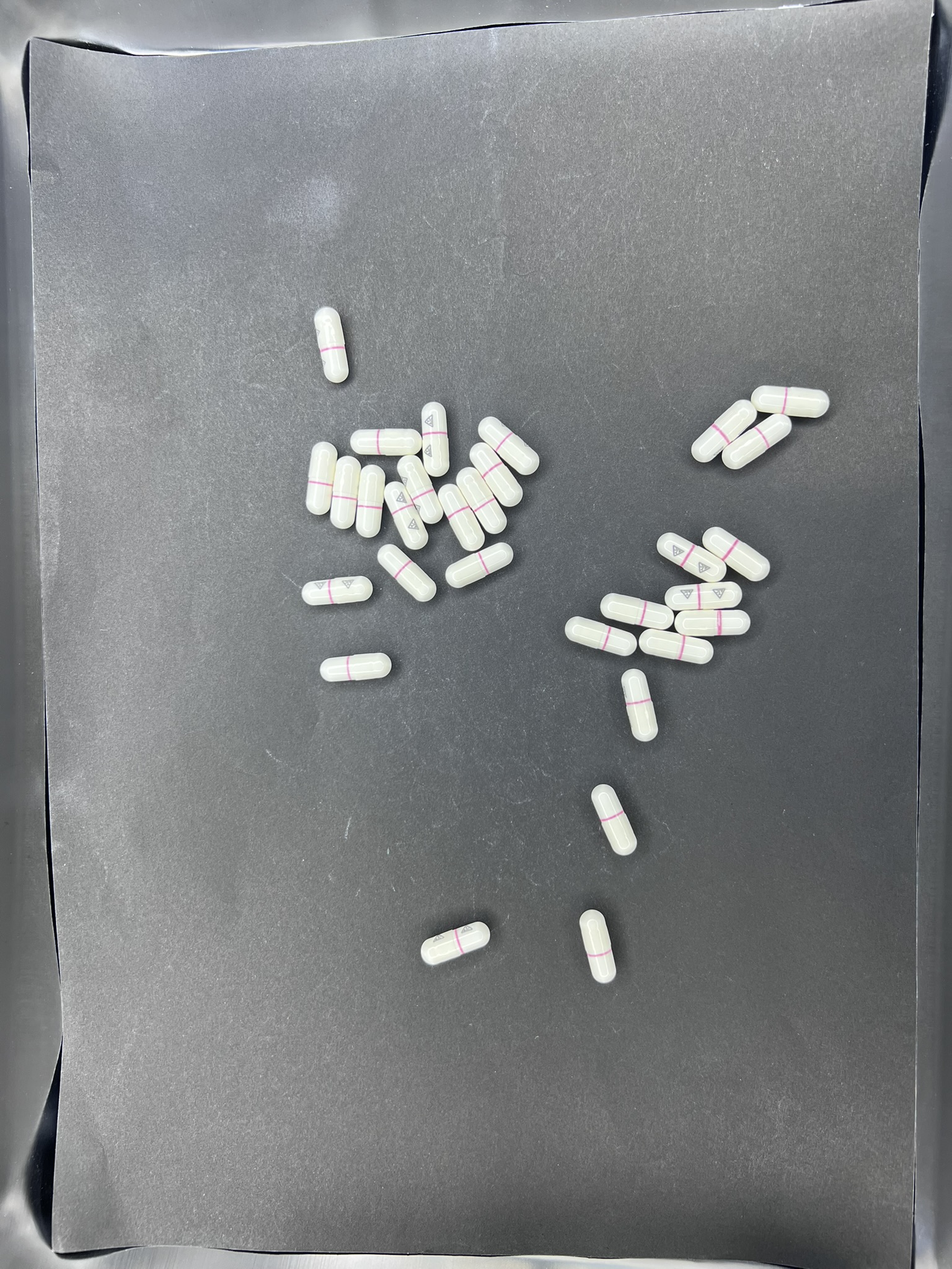Capsule: (690, 399, 758, 465), (721, 411, 793, 470), (479, 416, 542, 477), (702, 527, 771, 582), (469, 441, 524, 508), (377, 544, 436, 603), (659, 533, 728, 583), (456, 467, 505, 536), (445, 542, 515, 590), (421, 921, 492, 968), (591, 785, 637, 857), (384, 477, 428, 550), (438, 483, 484, 551), (398, 455, 442, 524), (566, 617, 638, 657), (579, 909, 617, 984), (619, 671, 657, 743), (313, 307, 349, 383), (639, 629, 714, 665), (752, 385, 830, 418), (601, 593, 669, 630), (306, 442, 338, 517), (666, 581, 740, 611), (331, 457, 361, 530), (356, 464, 385, 539), (320, 652, 390, 683), (421, 402, 450, 476), (674, 608, 748, 636), (305, 577, 374, 607), (351, 429, 422, 457)
